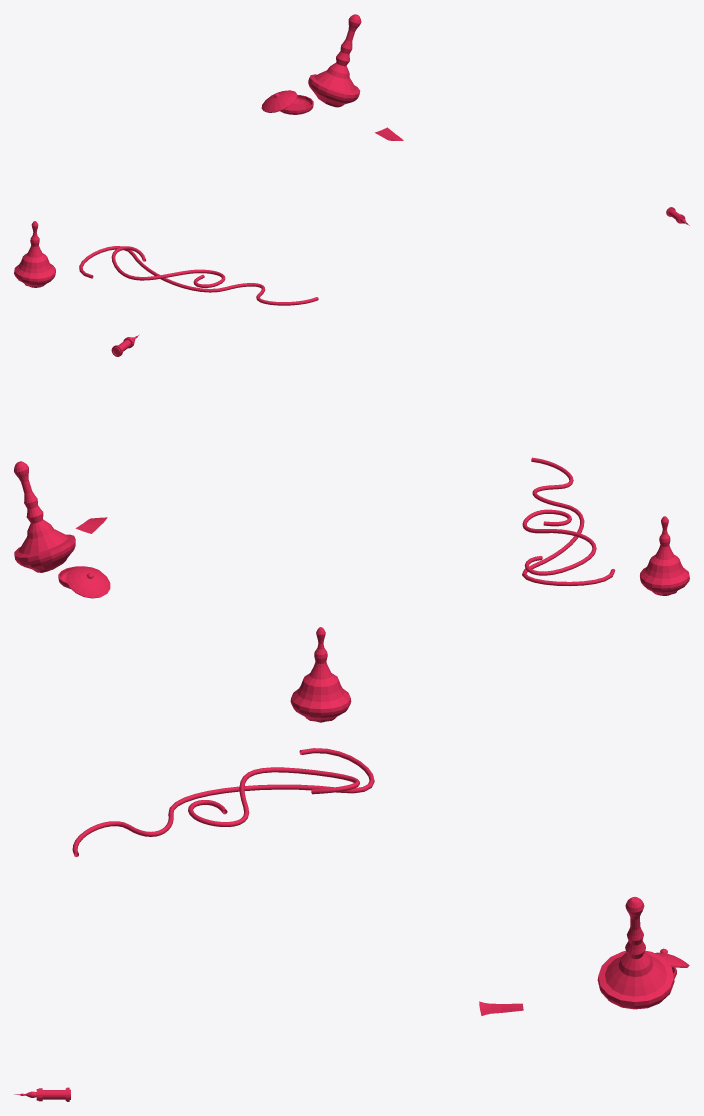
Rendered from Brinquedos.fbx.
3 views of the same model, one above another, from view 1: azimuth 30°, elevation 25°; view 2: azimuth 150°, elevation 25°; view 3: azimuth 270°, elevation 25° (orthographic). The views are drawn at different scales.
Parts seen in each view (by area): view 1: Vase, Vase.001, BézierCurve.011, BézierCurve.007, lidRecipient1; view 2: Vase, Vase.001, BézierCurve.011, BézierCurve.007, lidRecipient1; view 3: Vase, Vase.001, BézierCurve.011, BézierCurve.007.
Boxes of the visible parts, <box> form: Vase: <box>308,14,361,107</box>; Vase.001: <box>14,221,55,287</box>; BézierCurve.011: <box>79,246,318,305</box>; BézierCurve.007: <box>111,246,225,287</box>; lidRecipient1: <box>261,90,297,112</box>; Vase: <box>14,461,75,572</box>; Vase.001: <box>640,516,689,595</box>; BézierCurve.011: <box>522,457,615,585</box>; BézierCurve.007: <box>522,509,596,575</box>; lidRecipient1: <box>66,566,110,598</box>; Vase: <box>597,897,674,1009</box>; Vase.001: <box>290,627,351,722</box>; BézierCurve.011: <box>72,748,374,856</box>; BézierCurve.007: <box>188,767,359,826</box>.
Size of the model in its own units: 734 by 108 by 527.
